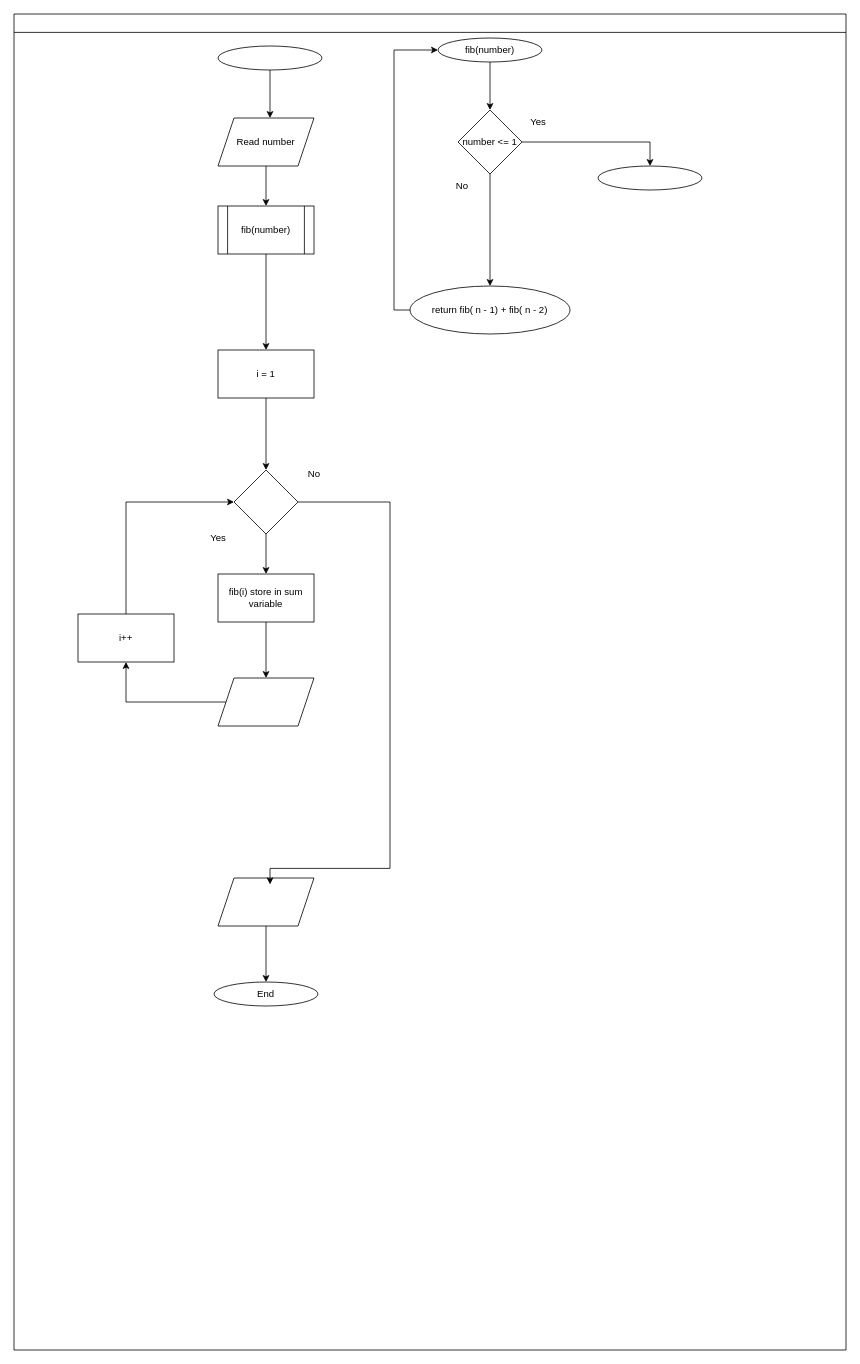
The diagram is 860 pixels wide and 1364 high, and some of its shapes have lost their labels. Here are the shapes that lost their labels. From the top down, the centre of each, then its label:
(269,57): Start
(649,177): return n
(265,501): i <= number
(265,701): Display fib(i)
(265,901): Display sum
